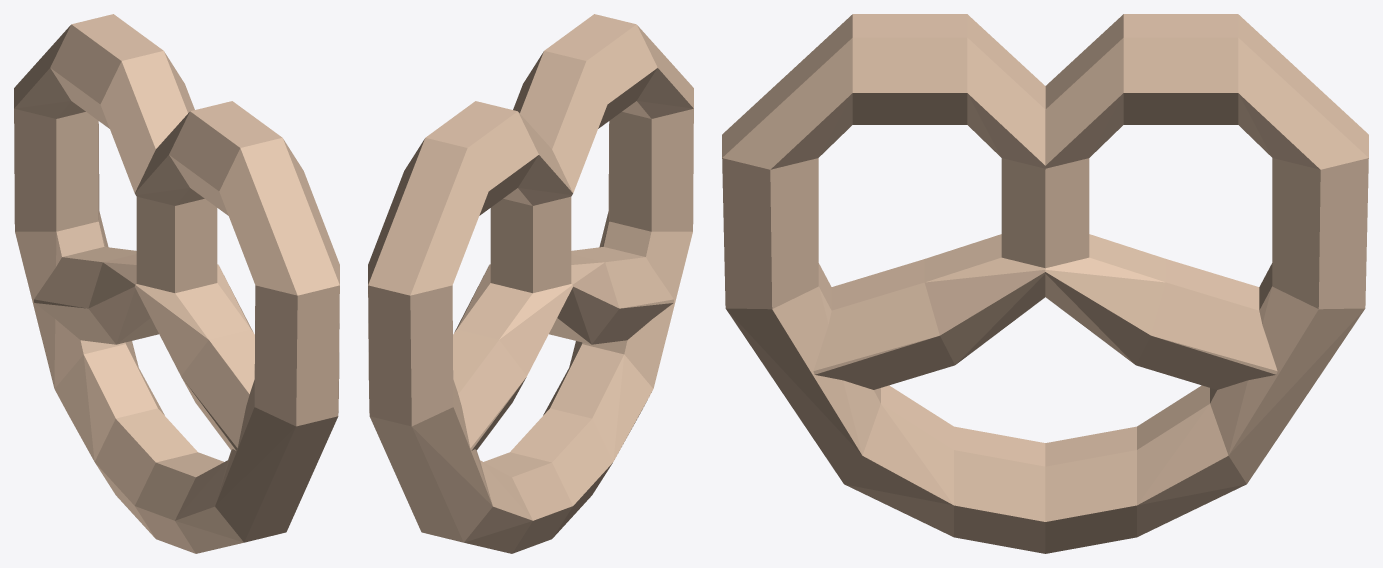
Rendered from Pretzel.fbx.
3 views of the same model, side by side, from view 1: azimuth 30°, elevation 25°; view 2: azimuth 150°, elevation 25°; view 3: azimuth 270°, elevation 25° (orthographic). The views are drawn at different scales.
Visible parts, largest first — view 1: Pretzel; view 2: Pretzel; view 3: Pretzel.
Part boxes in pixels (bbox=[...]): Pretzel: bbox=[14, 14, 339, 553]; Pretzel: bbox=[368, 14, 693, 553]; Pretzel: bbox=[722, 14, 1368, 553].
Bounding box in the file's own units: 0.0608 × 0.3113 × 0.3533.
